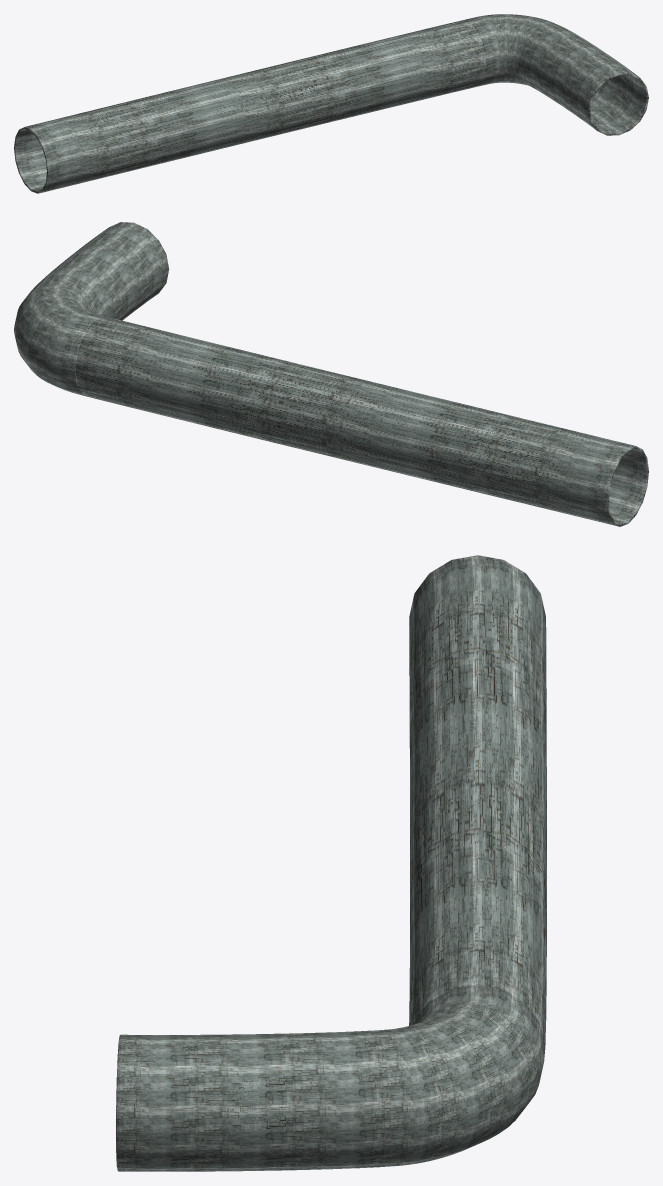
Rendered from mapa (1).fbx.
The picture shows the model from 3 angles, top to bottom: view 1: azimuth 30°, elevation 25°; view 2: azimuth 150°, elevation 25°; view 3: azimuth 270°, elevation 25°; orthographic projection. The views are drawn at different scales.
Visible parts, largest first — view 1: BezierCurve.002, BezierCurve; view 2: BezierCurve.002, BezierCurve; view 3: BezierCurve, BezierCurve.002.
Part boxes in pixels (x1,y1,x2,y2): BezierCurve.002: [14, 20, 486, 193]; BezierCurve: [465, 14, 648, 135]; BezierCurve.002: [75, 316, 648, 526]; BezierCurve: [14, 222, 168, 396]; BezierCurve: [116, 984, 545, 1171]; BezierCurve.002: [409, 555, 546, 1045].
Size of the model in its own units: 2013 by 226 by 712.
